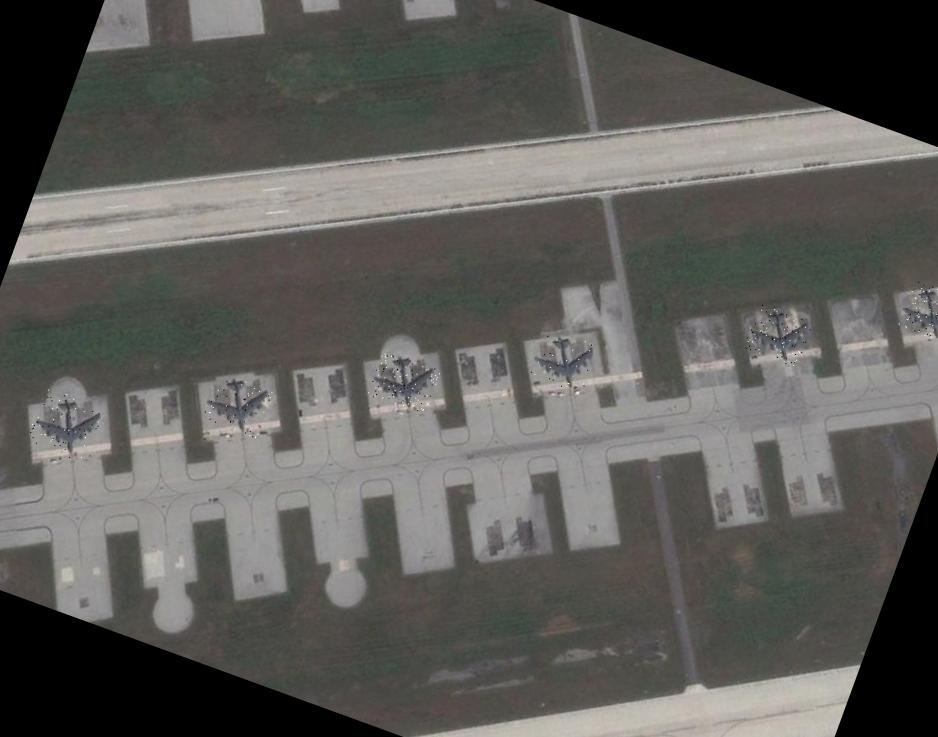A8: (24, 384, 106, 464), (201, 368, 274, 438), (367, 350, 441, 416), (742, 302, 812, 368), (530, 327, 598, 394), (897, 280, 938, 344)
